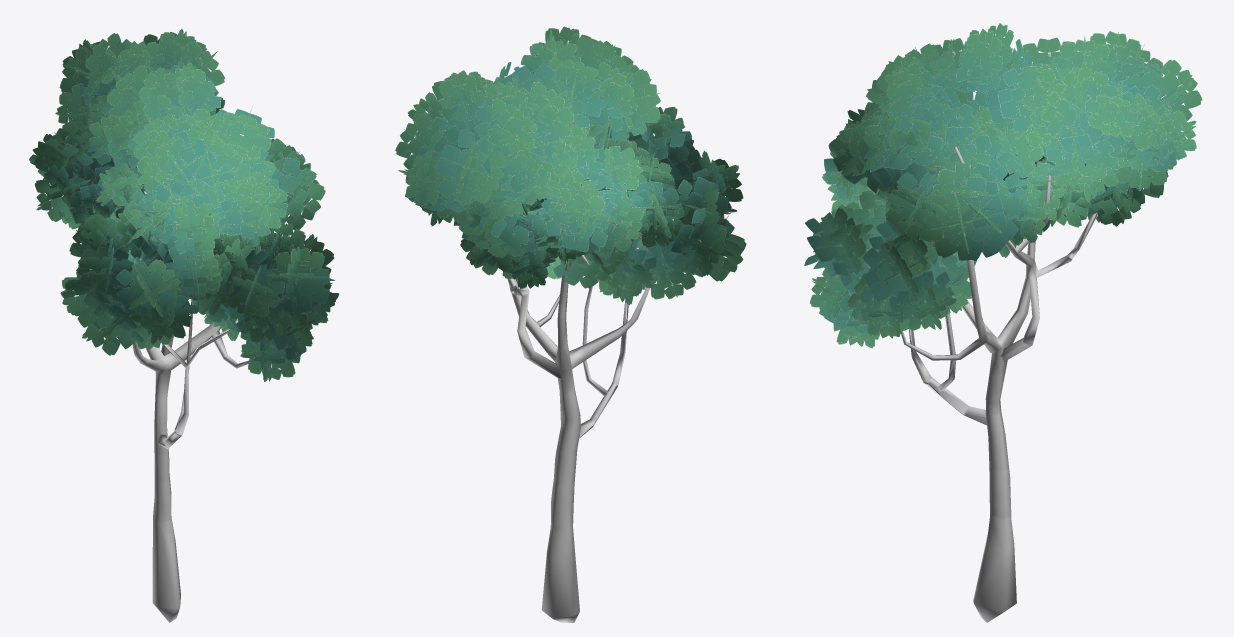
File: TSP_Tree_03A.fbx
3 renders of one model, left to right at view 1: azimuth 30°, elevation 25°; view 2: azimuth 150°, elevation 25°; view 3: azimuth 270°, elevation 25°, orthographic. The views are drawn at different scales.
Visible parts, largest first — view 1: TSP_Tree_03A; view 2: TSP_Tree_03A; view 3: TSP_Tree_03A.
Part boxes in pixels (x1,y1,x2,y2): TSP_Tree_03A: (29,28,339,622); TSP_Tree_03A: (395,26,746,622); TSP_Tree_03A: (804,23,1202,622).
Bounding box in the file's own units: 5.56 × 10.24 × 6.51.
